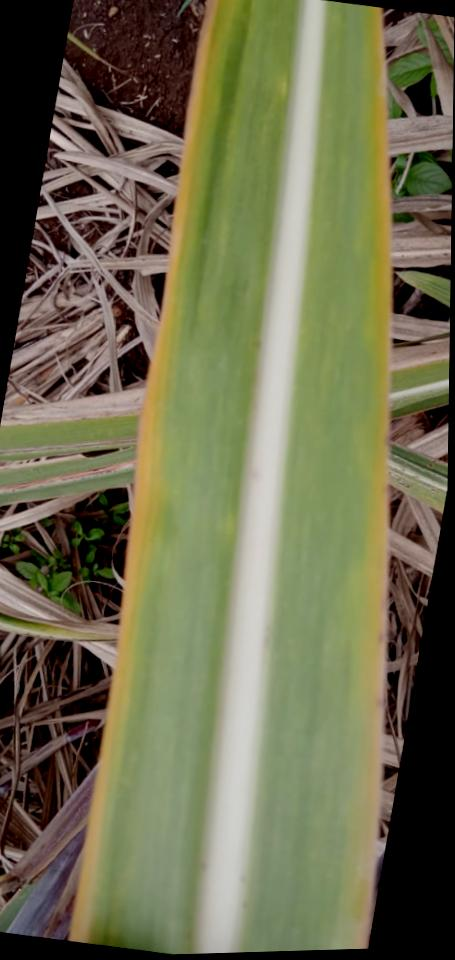Yellow: (70, 0, 217, 942), (358, 7, 390, 949)
